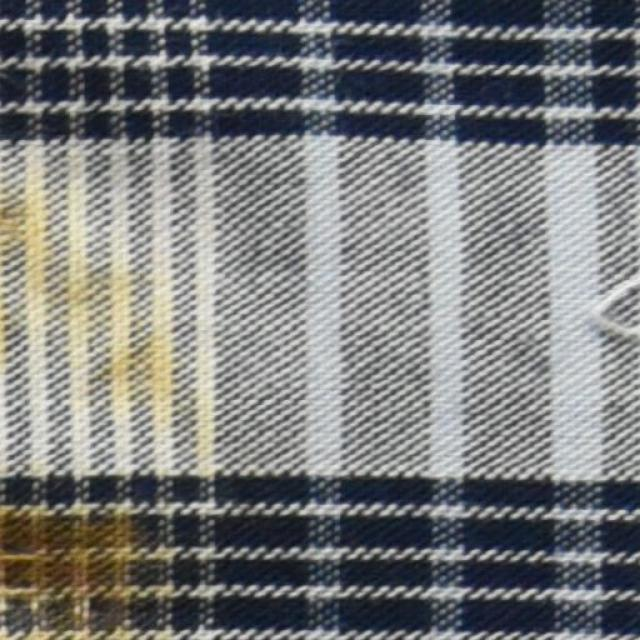Snag: (578, 272, 631, 372)
Stain: (7, 210, 207, 421), (1, 486, 158, 636)
